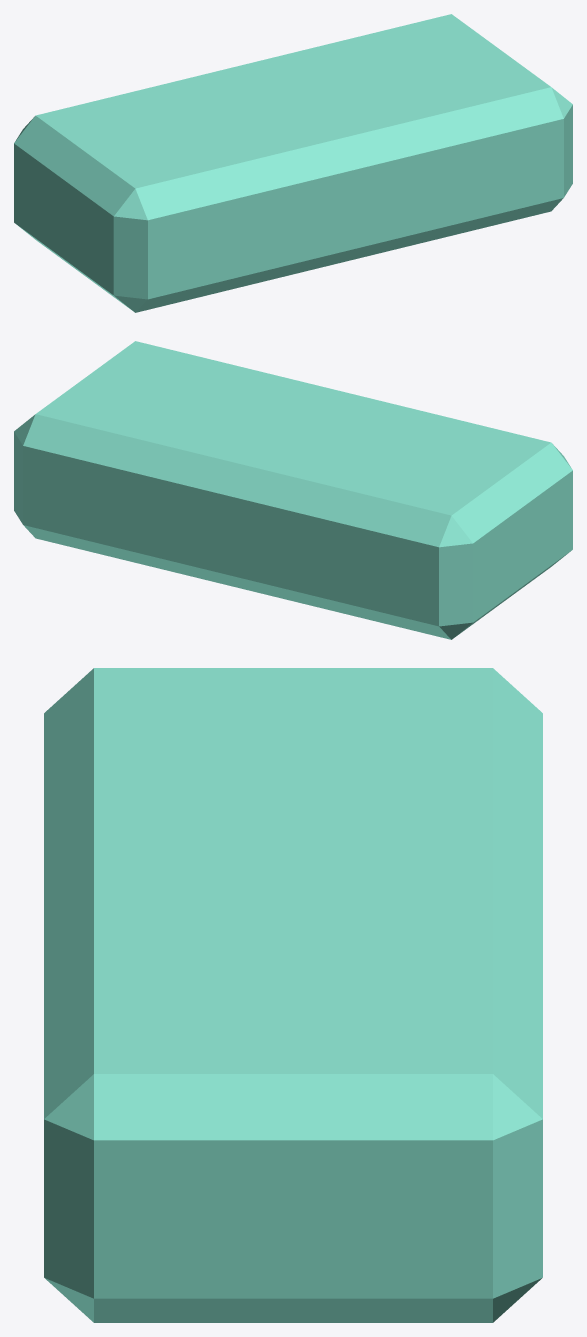
3 views of the same model, one above another, from view 1: azimuth 30°, elevation 25°; view 2: azimuth 150°, elevation 25°; view 3: azimuth 270°, elevation 25° (orthographic). The views are drawn at different scales.
Parts seen in each view (by area): view 1: Step; view 2: Step; view 3: Step.
Boxes of the visible parts, <box> form: Step: <box>14,14,572,312</box>; Step: <box>14,341,572,639</box>; Step: <box>44,668,542,1322</box>.
Bounding box in the file's own units: 85 × 22 × 40.
